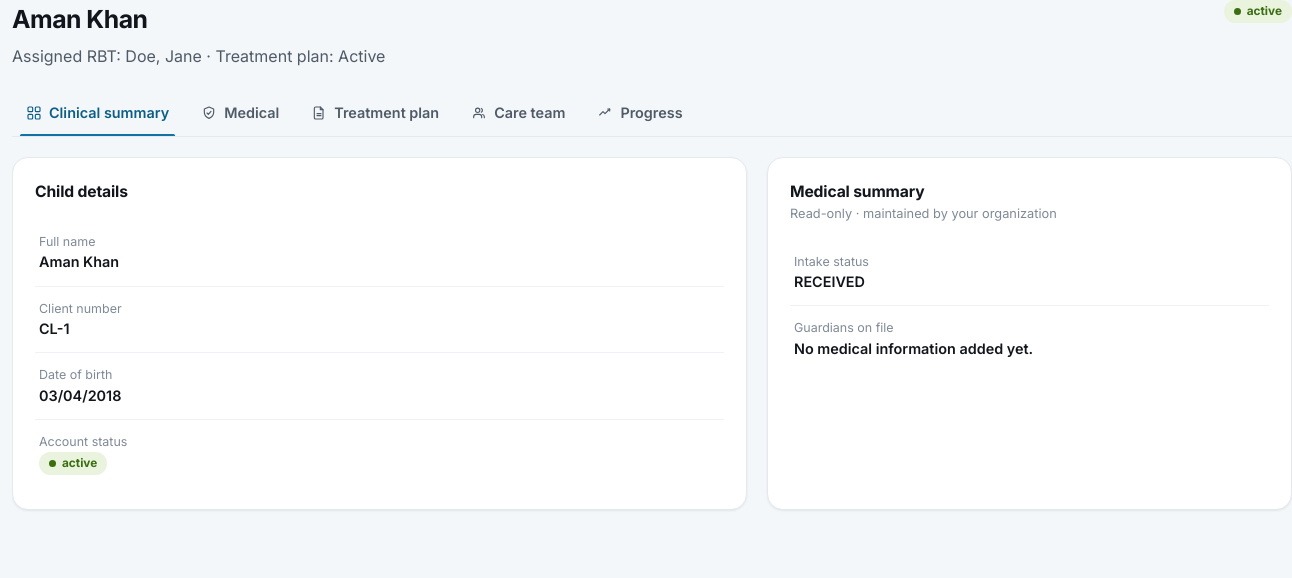
Scenario: Child Profile → Treatment Plans › lists THIS child's plan via the shared listPlans({clientId}) and shows an active-plan summary
Click the tab "Treatment plan".
click(375, 113)  # box [297,91,453,136]
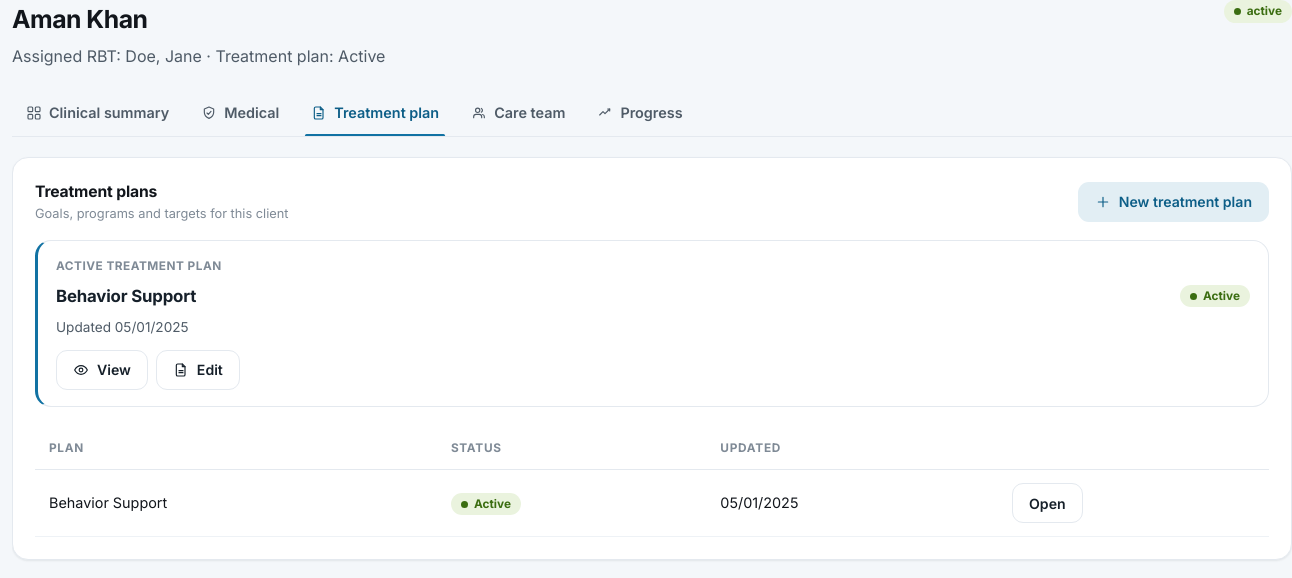
Expected: the text "Active" is shown, [338,46,385,66]
Expected: the text "Active treatment plan" is shown, [56,259,222,273]
